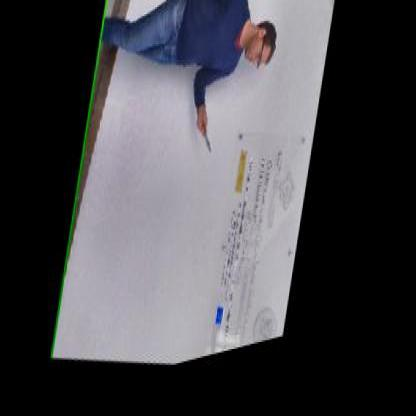knife: (194, 118, 221, 168)
